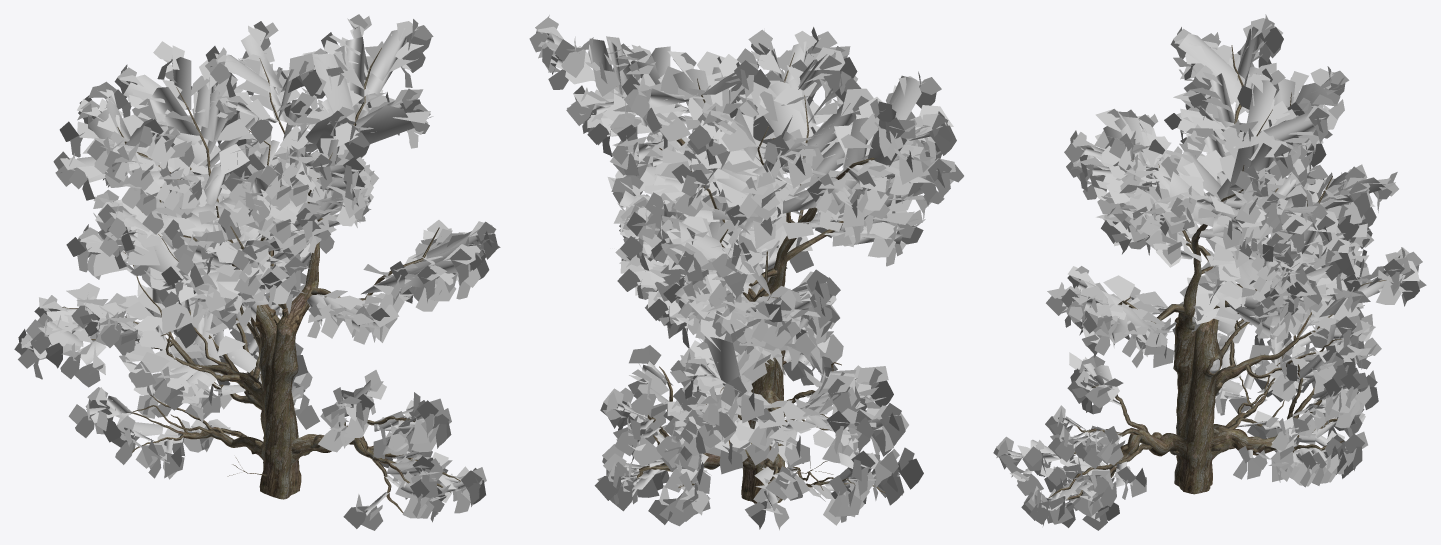
File: Tree_Climber_Center.fbx
3 views of the same model, side by side, from view 1: azimuth 30°, elevation 25°; view 2: azimuth 150°, elevation 25°; view 3: azimuth 270°, elevation 25° (orthographic). The views are drawn at different scales.
Visible parts, largest first — view 1: Broadleaf_Hero_Field_8; view 2: Broadleaf_Hero_Field_8; view 3: Broadleaf_Hero_Field_8.
Boxes of the visible parts, <box> form: Broadleaf_Hero_Field_8: <box>14,14,500,530</box>; Broadleaf_Hero_Field_8: <box>529,15,963,530</box>; Broadleaf_Hero_Field_8: <box>993,14,1426,530</box>.
Bounding box in the file's own units: 778 × 864 × 809.
